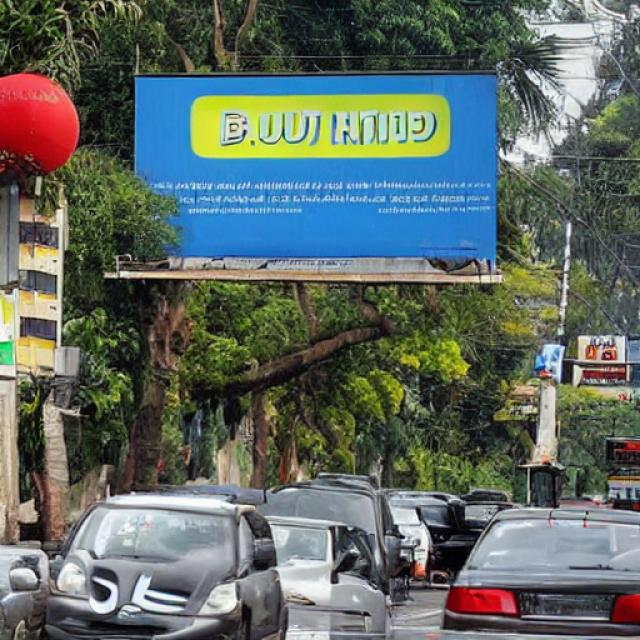Billboard: (132, 70, 503, 286)
